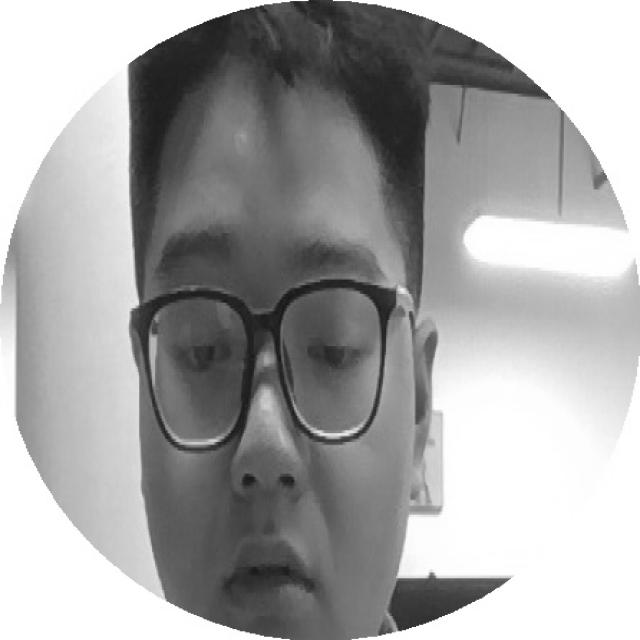real: (132, 88, 416, 639), (147, 284, 386, 390)
